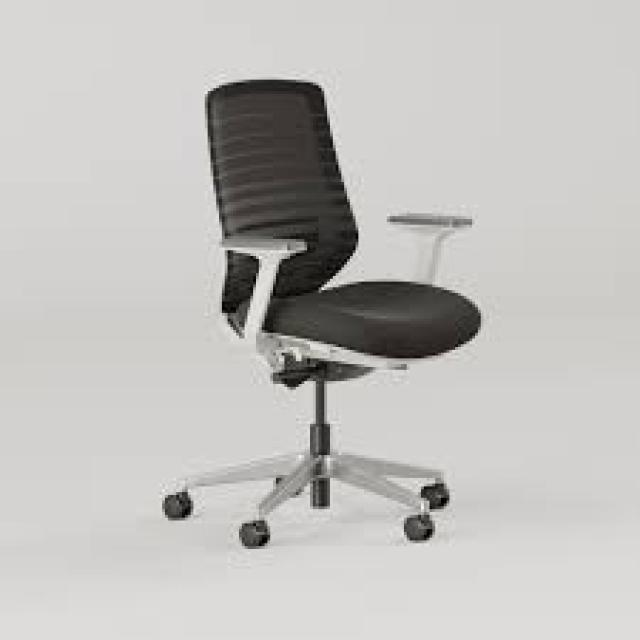chair: (46, 30, 592, 606)
